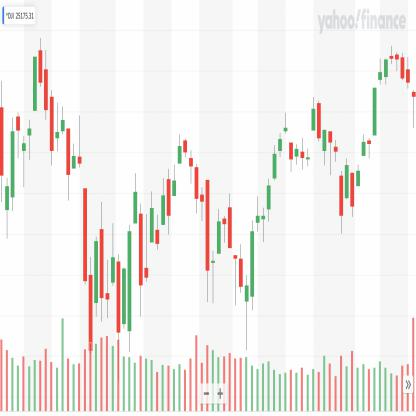Bearish 3 Black Crows: (37, 33, 55, 169)
Bearish Abandoned Baby: (277, 109, 294, 177)
Bullish Hammer: (238, 215, 254, 354)
Bullish Kicker: (144, 187, 154, 286)
